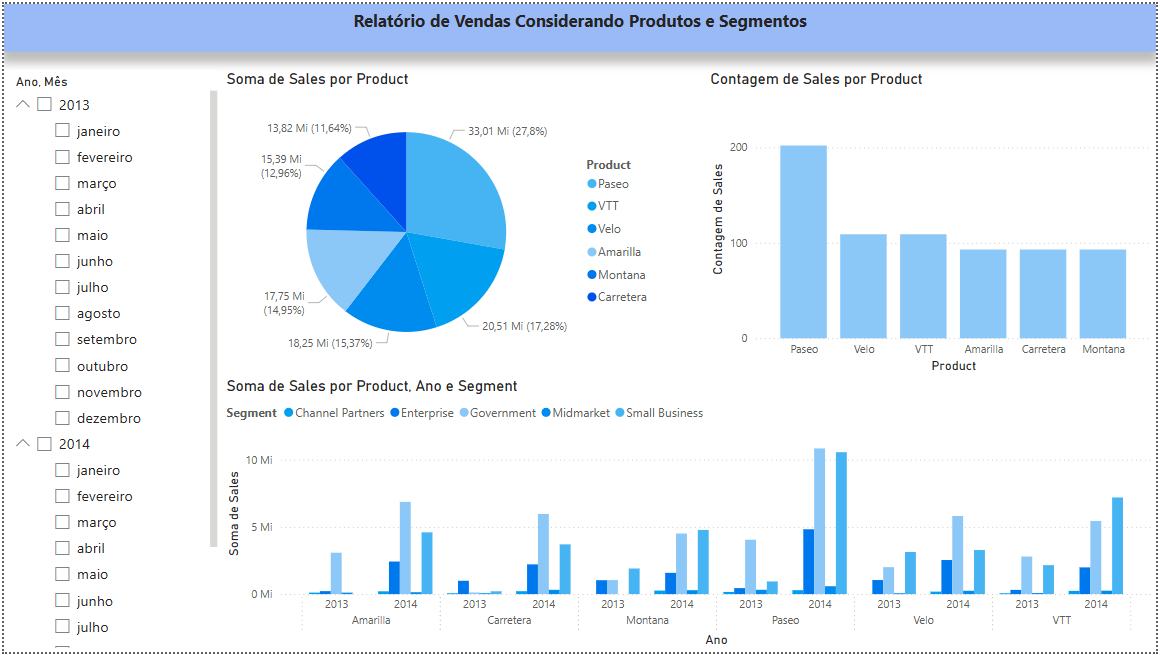

What the dashboard file says about the page in this screenshot:
{"tool":"powerbi","page":{"name":"Página 1","canvas":[1280,720],"ordinal":0},"visuals":[{"type":"pieChart","fields":{"Y":["Sum(financials. Sales)"],"Category":["financials.Product"]},"box":[242.2,73.3,486.7,341.1],"z":0},{"type":"columnChart","fields":{"Category":["financials.Product"],"Y":["Count(financials. Sales)"]},"box":[780,73.3,500,341.1],"z":1000},{"type":"textbox","box":[0,0,1280,52.9],"z":2000},{"type":"clusteredColumnChart","fields":{"Category":["financials.Product","financials.Date.Variation.Hierarquia de datas.Ano"],"Y":["Sum(financials. Sales)"],"Series":["financials.Segment"]},"box":[242.2,414.4,1037.8,305.6],"z":3000},{"type":"slicer","fields":{"Values":["financials.Date.Variation.Hierarquia de datas.Ano","financials.Date.Variation.Hierarquia de datas.Mês"]},"box":[0,73.3,242.2,646.7],"z":4000}]}

Visuals, with their boxes on the page's 1280x720 design canvas (x1, y1, x2, y2). These are canvas units, not pixel positions in the 1160x655 screenshot, which may show the page scaled, cropped or inside an application window:
pieChart - Sum(financials. Sales) x financials.Product: BBox(242, 73, 729, 414)
columnChart - financials.Product x Count(financials. Sales): BBox(780, 73, 1280, 414)
textbox: BBox(0, 0, 1280, 53)
clusteredColumnChart - financials.Product x financials.Date.Variation.Hierarquia de datas.Ano: BBox(242, 414, 1280, 720)
slicer - financials.Date.Variation.Hierarquia de datas.Ano x financials.Date.Variation.Hierarquia de datas.Mês: BBox(0, 73, 242, 720)
